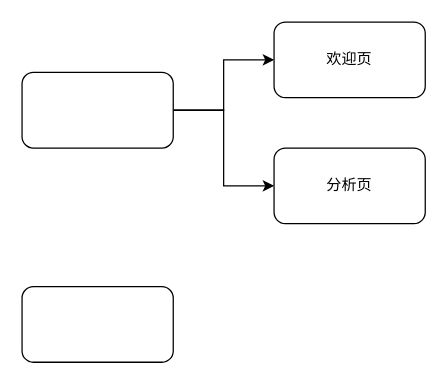
This 447x384 diagram has some shape labels left out. The shapes that lost their labels are listed below. From the top down, each one's box as (x1, y1, x2, y2) in pixels, then its label:
(21, 71, 173, 148): 首页
(21, 285, 173, 362): 博客管理
